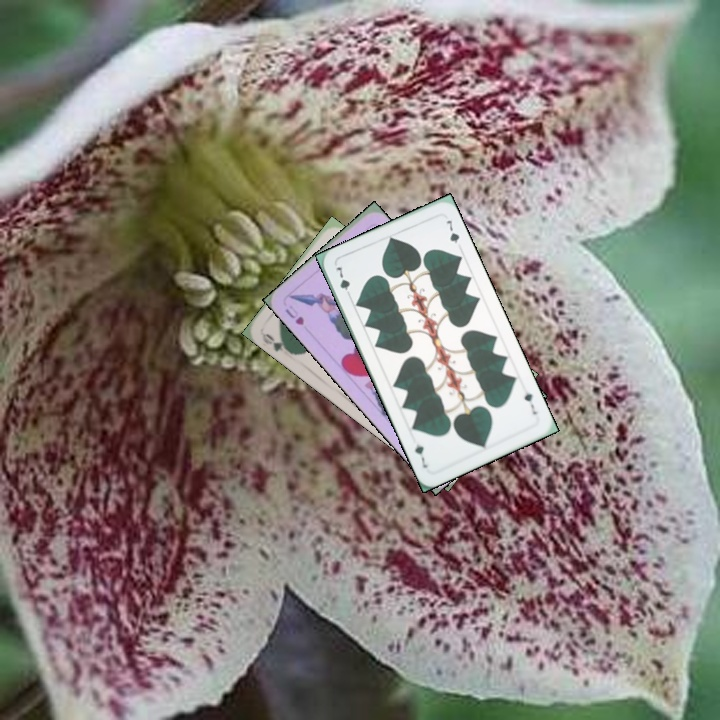G7: (331, 263, 354, 301), (520, 388, 540, 417)
GO: (258, 329, 296, 357)
HU: (281, 301, 307, 328)
